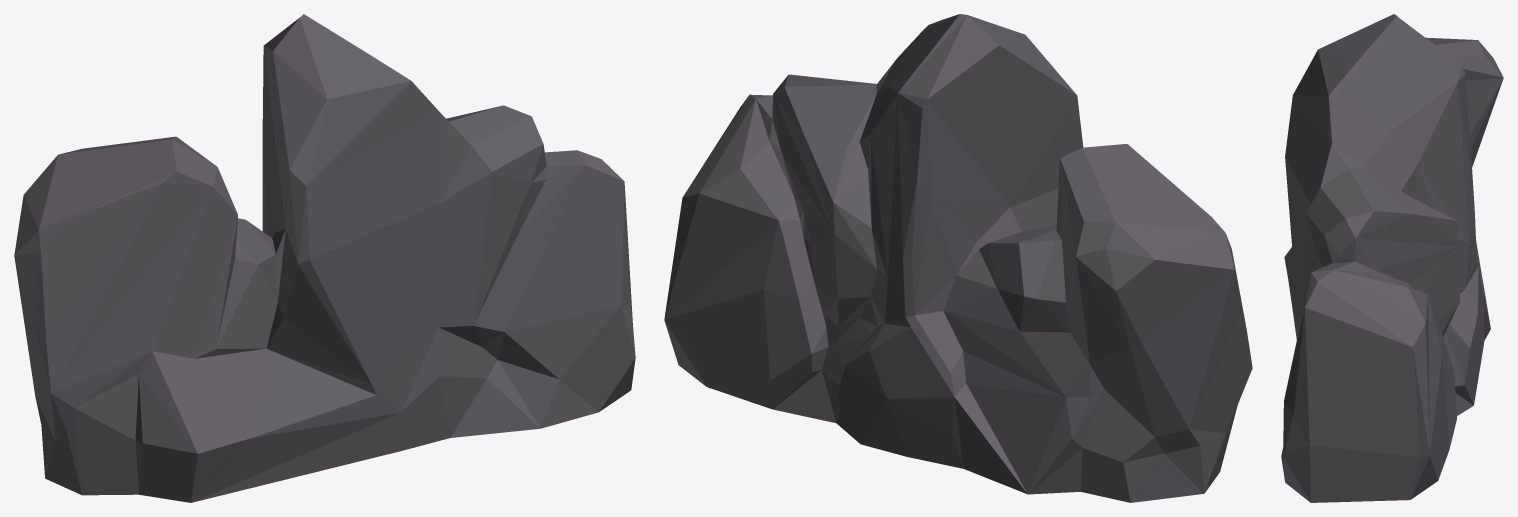
File: Rock Formation.fbx
3 renders of one model, left to right at view 1: azimuth 30°, elevation 25°; view 2: azimuth 150°, elevation 25°; view 3: azimuth 270°, elevation 25°, orthographic. The views are drawn at different scales.
Parts seen in each view (by area): view 1: Rock_Formation; view 2: Rock_Formation; view 3: Rock_Formation.
Part boxes in pixels (x1,y1,x2,y2): Rock_Formation: (14,14,635,502); Rock_Formation: (664,14,1252,502); Rock_Formation: (1281,14,1503,502).
Size of the model in its own units: 29.86 by 20.83 by 11.48.
